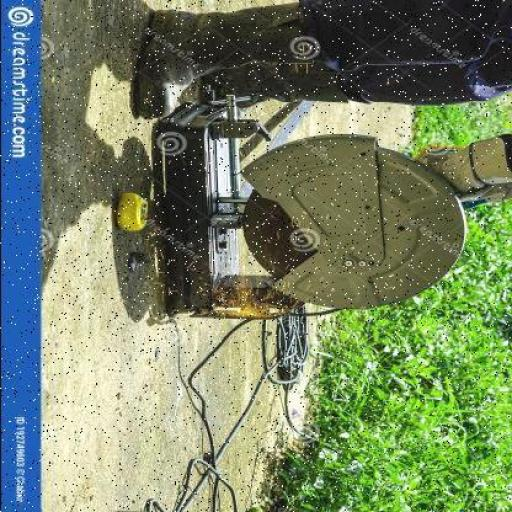safety_shoe: (130, 4, 307, 122)
